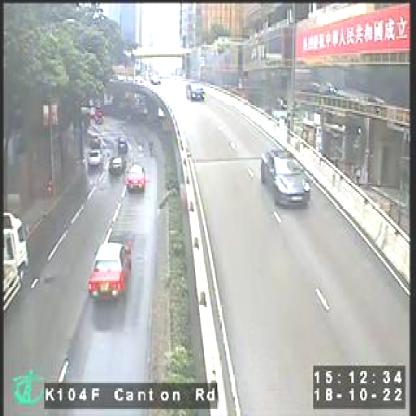Car: (259, 148, 312, 210), (87, 240, 132, 301), (125, 165, 146, 194), (185, 82, 206, 102), (107, 155, 126, 176), (87, 146, 101, 168), (116, 136, 129, 154)
